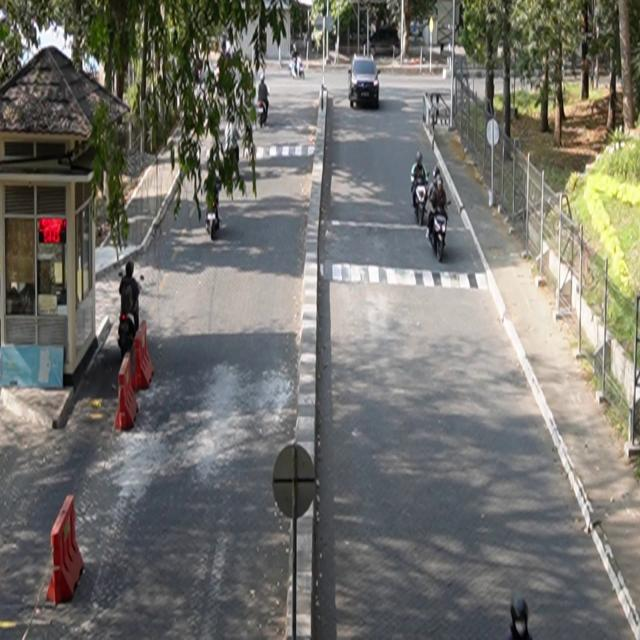car: (349, 54, 381, 109)
